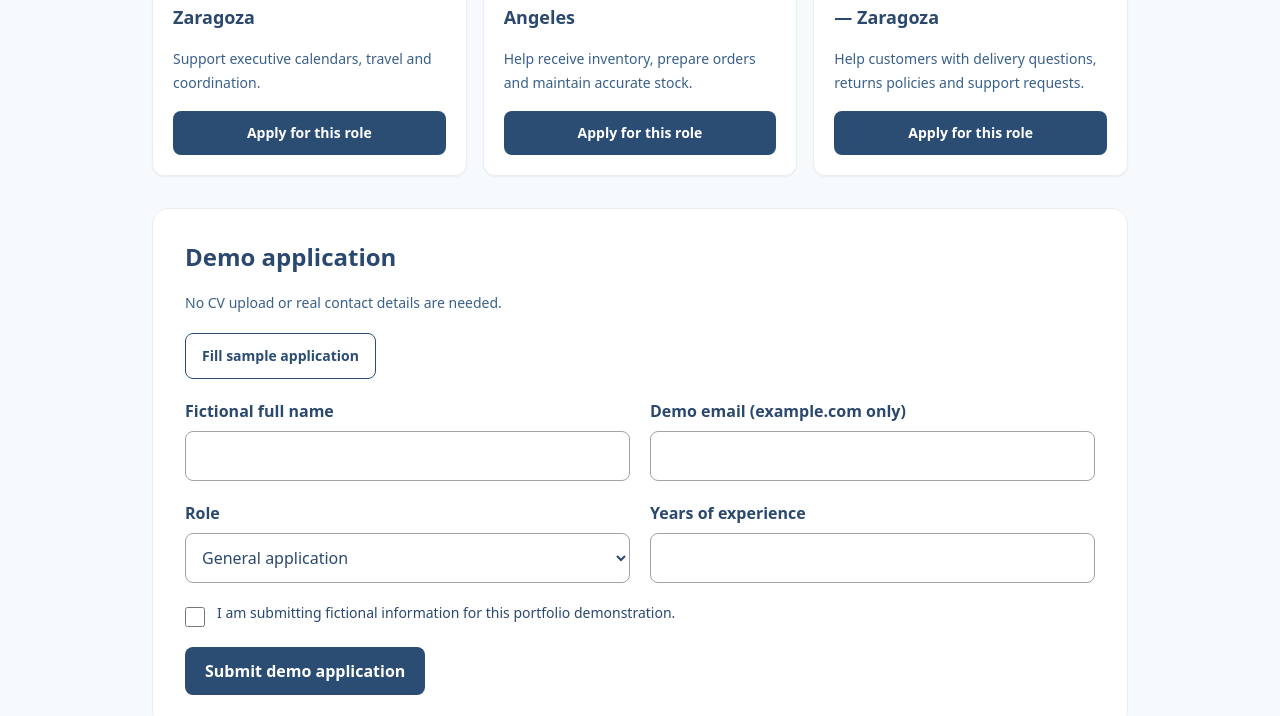
careers demonstration › shows confirmed creation and an authenticated candidate link
(page scrolled)
Click the button "Fill sample application" at (280, 356), box [185,333,376,379]
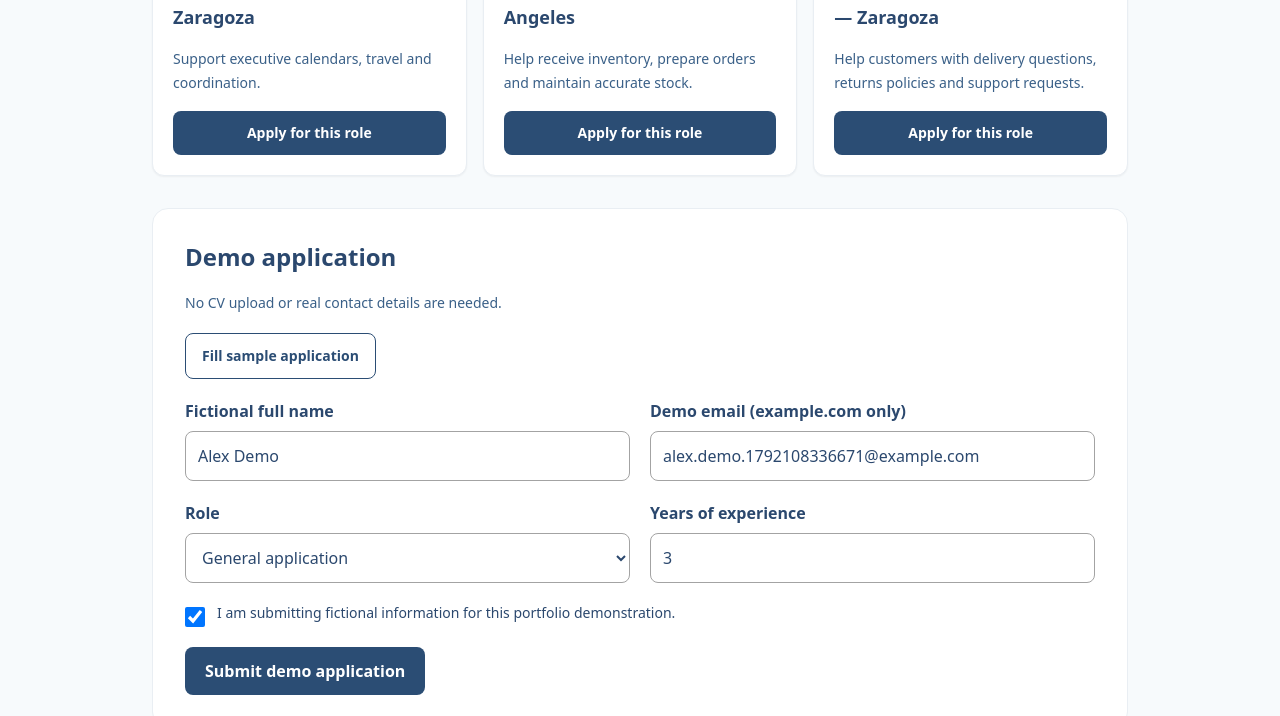
Click the button "Submit demo application" at (305, 671), box [185,647,425,695]
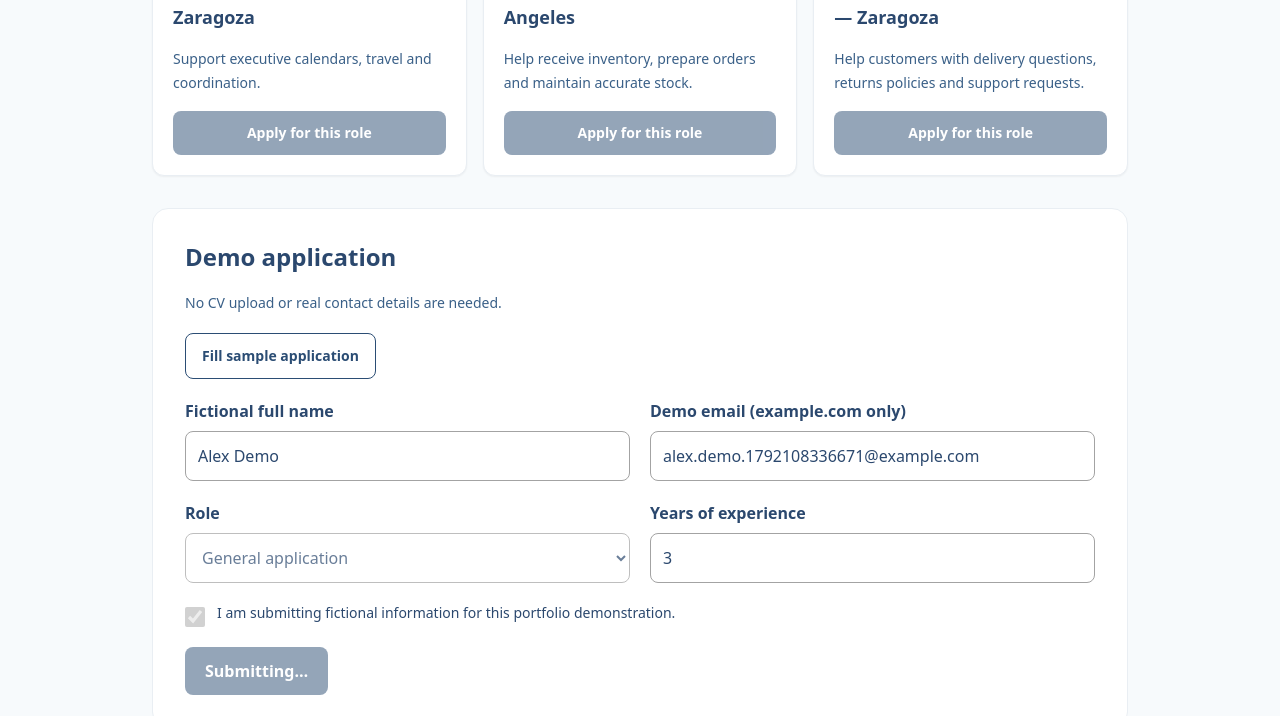
Click the button "Submitting…" at (257, 671), box [185,647,328,695]
(page scrolled)
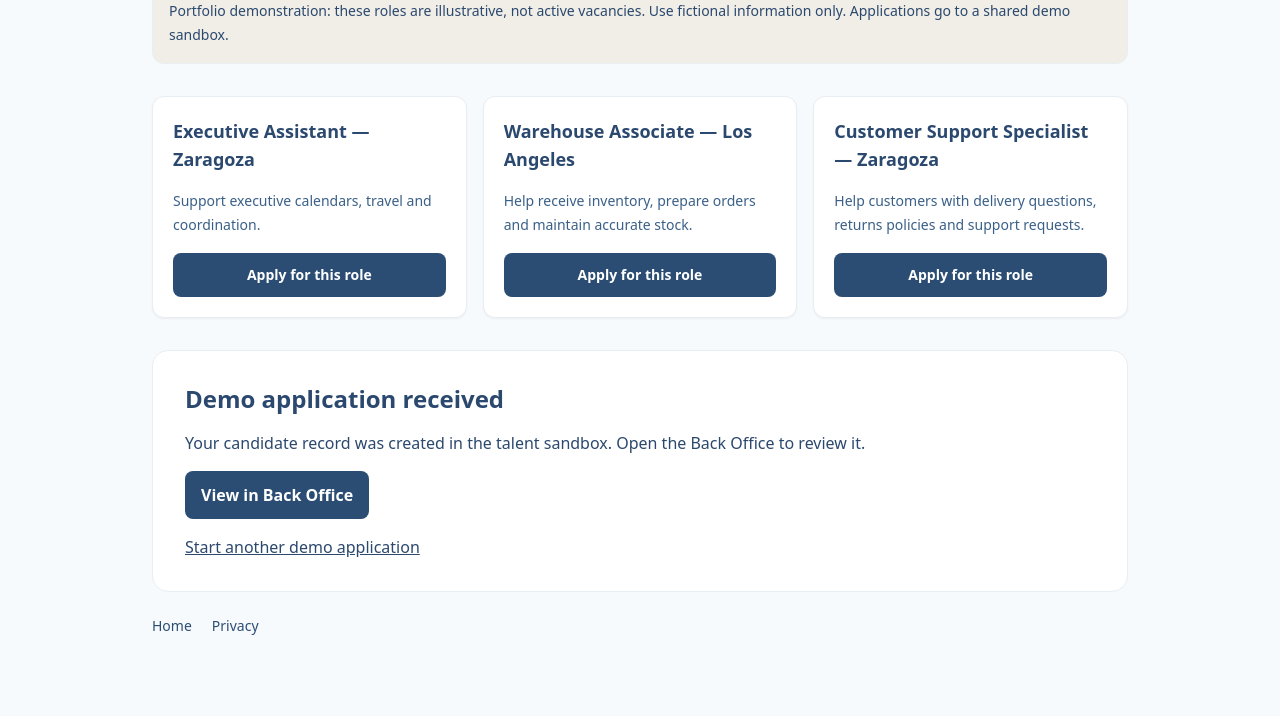
Check: the heading "Demo application received" is shown, box [185,382,504,415]
